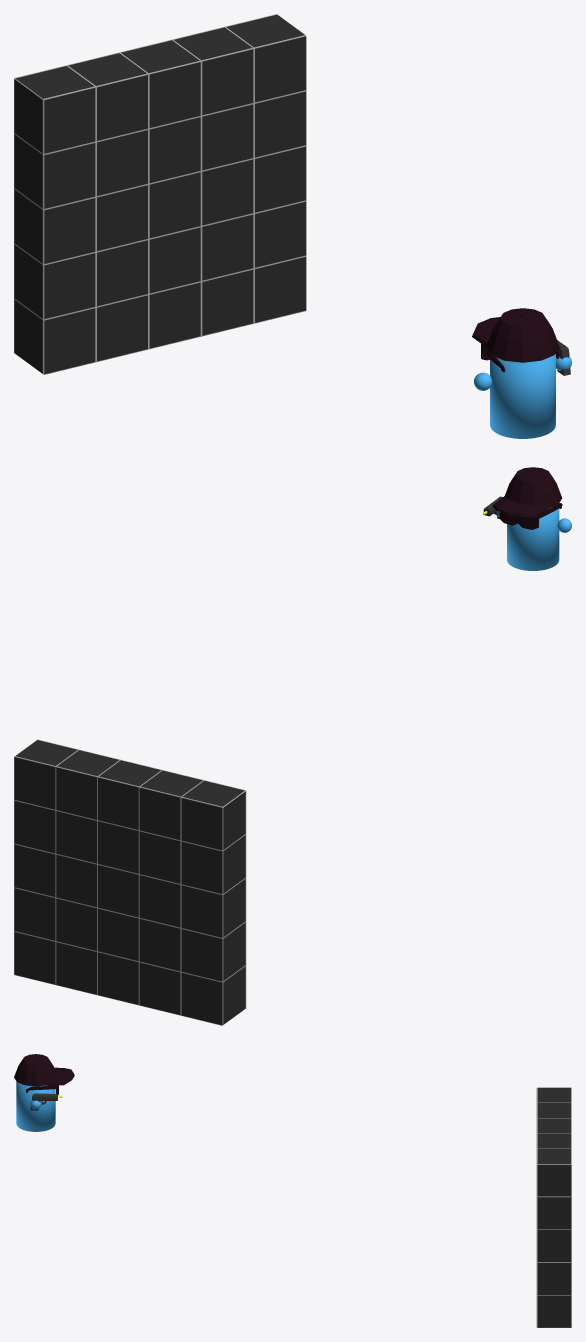
The model's file is cool_agent.fbx.
3 renders of one model, top to bottom at view 1: azimuth 30°, elevation 25°; view 2: azimuth 150°, elevation 25°; view 3: azimuth 270°, elevation 25°, orthographic. The views are drawn at different scales.
Parts seen in each view (by area): view 1: Cube.022, Body.002, Hat.001; view 2: Cube.022, Body.002, Hat.001; view 3: Cube.022, Body.002, Hat.001.
Part boxes in pixels (<box>): Cube.022: <box>14,14,306,374</box>; Body.002: <box>490,354,555,438</box>; Hat.001: <box>472,308,559,362</box>; Cube.022: <box>14,739,246,1025</box>; Body.002: <box>507,507,559,570</box>; Hat.001: <box>492,467,562,517</box>; Cube.022: <box>536,1087,571,1327</box>; Body.002: <box>16,1081,55,1131</box>; Hat.001: <box>14,1054,74,1086</box>.
Bounding box in the file's own units: 9.24 × 11.86 × 28.48.
